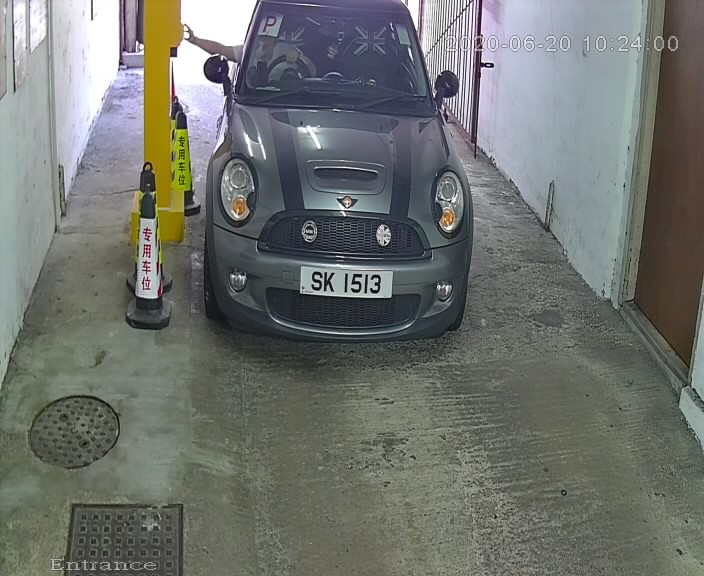privatecar: (197, 3, 500, 354)
